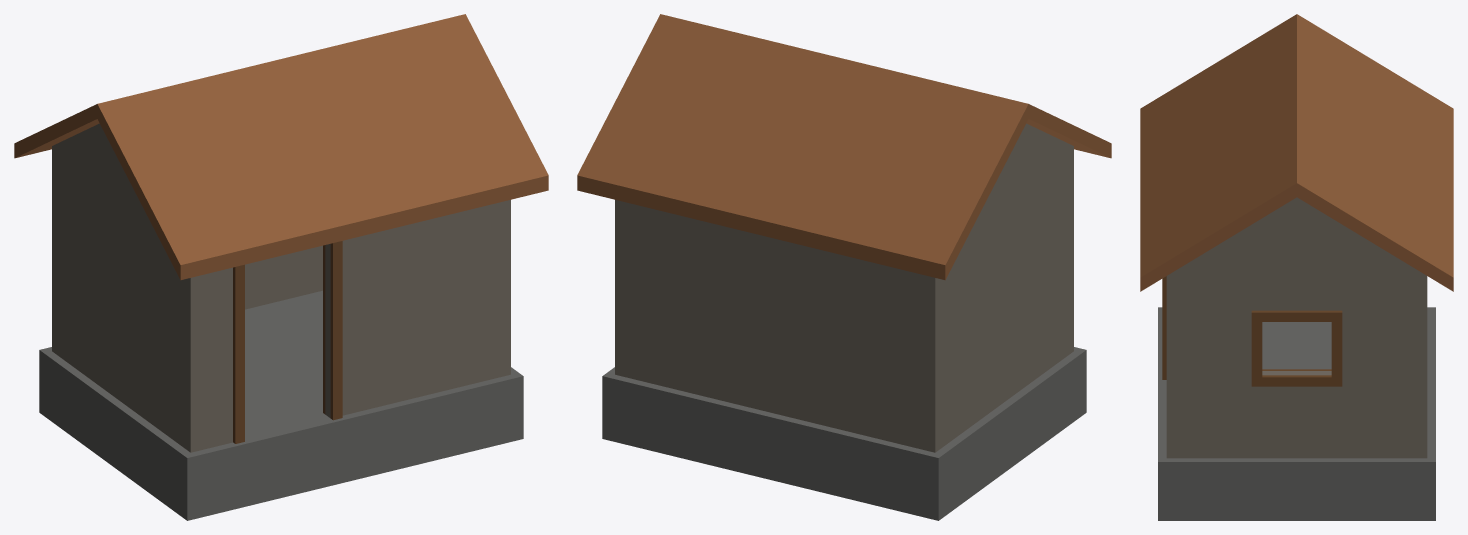
File: shed.glb
The picture shows the model from 3 angles, left to right: view 1: azimuth 30°, elevation 25°; view 2: azimuth 150°, elevation 25°; view 3: azimuth 270°, elevation 25°; orthographic projection. The views are drawn at different scales.
Visible parts, largest first — view 1: shed; view 2: shed; view 3: shed.
Part boxes in pixels (x1=…): shed: x1=14, y1=14, x2=548, y2=520; shed: x1=577, y1=14, x2=1111, y2=520; shed: x1=1140, y1=14, x2=1453, y2=520.
Size of the model in its own units: 4.6 by 4.38 by 3.6.
